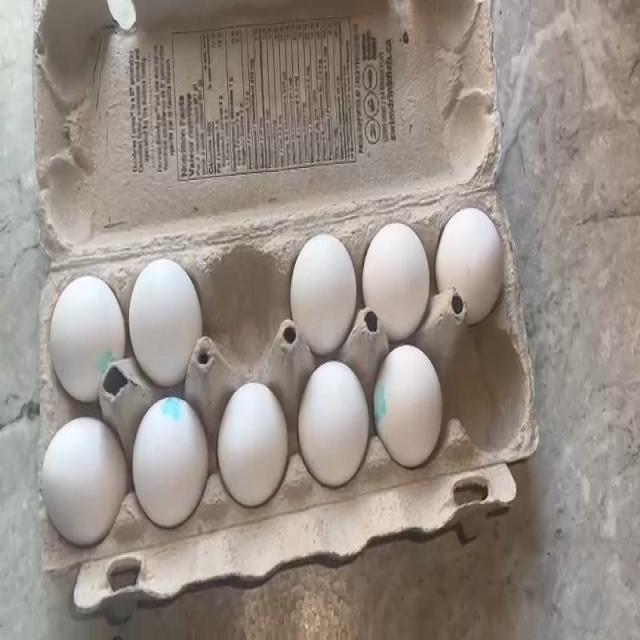Egg: (40, 419, 126, 529), (130, 263, 200, 374), (292, 240, 356, 340), (46, 282, 108, 384), (138, 413, 200, 511), (377, 344, 437, 444), (222, 392, 278, 496), (300, 378, 364, 468), (440, 211, 500, 300), (368, 230, 423, 318)
